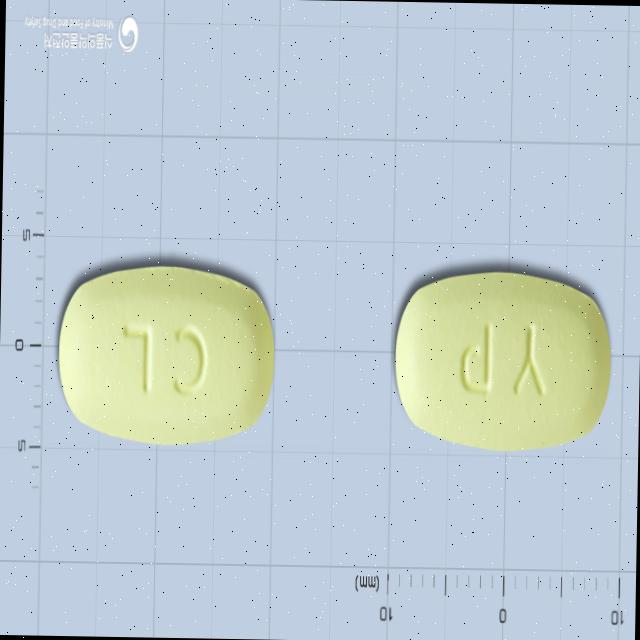Clarithromycin Tab- Youngpoong: (392, 266, 612, 454), (56, 261, 276, 445)
